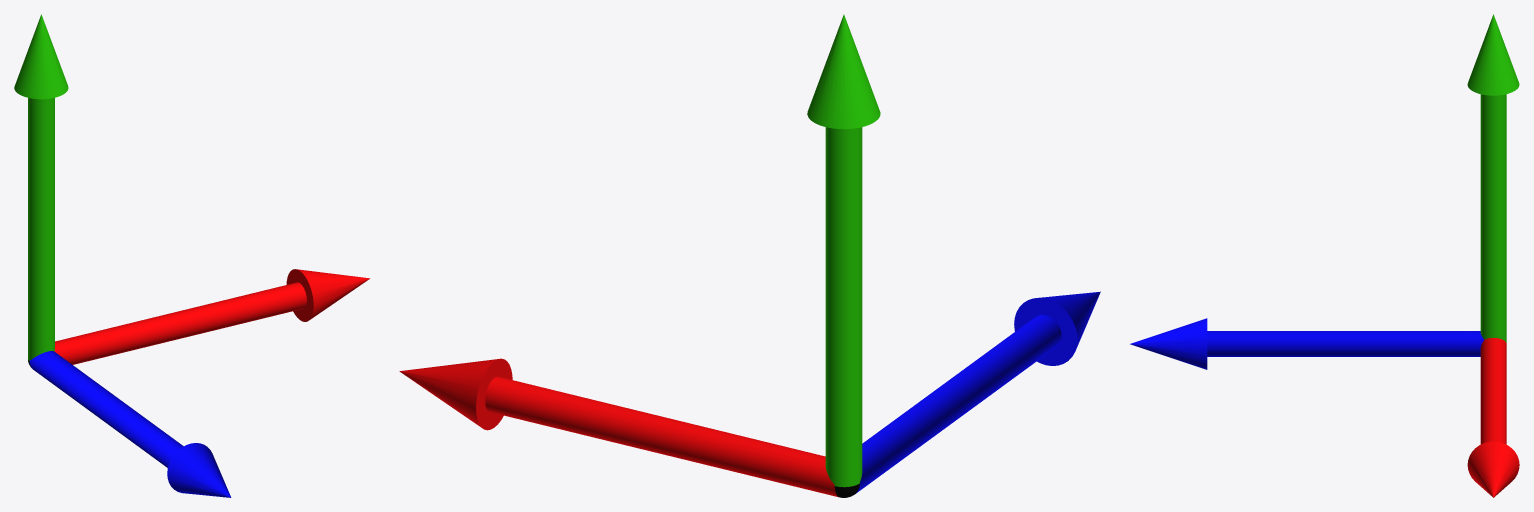
File: XYZ Axis.fbx
3 views of the same model, side by side, from view 1: azimuth 30°, elevation 25°; view 2: azimuth 150°, elevation 25°; view 3: azimuth 270°, elevation 25° (orthographic). The views are drawn at different scales.
Visible parts, largest first — view 1: XYZ_axis:Mesh1; view 2: XYZ_axis:Mesh1; view 3: XYZ_axis:Mesh1.
Boxes of the visible parts, x1=… form: XYZ_axis:Mesh1: x1=14, y1=14, x2=370, y2=497; XYZ_axis:Mesh1: x1=399, y1=14, x2=1100, y2=497; XYZ_axis:Mesh1: x1=1130, y1=14, x2=1519, y2=497.
Size of the model in its own units: 30.01 by 30.02 by 30.01.
1 material, 1 textured.
